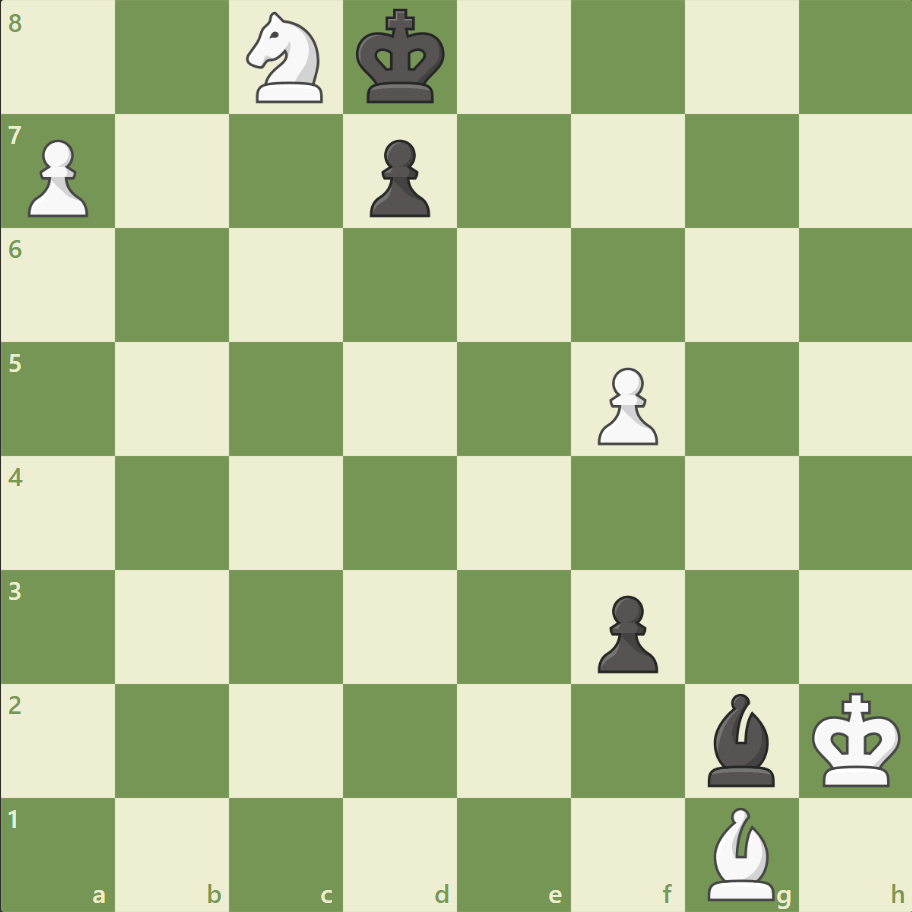B: (698, 801, 782, 904)
K: (806, 685, 906, 793)
N: (238, 7, 335, 110)
P: (20, 132, 95, 223), (588, 359, 662, 450)
b: (698, 687, 782, 790)
k: (351, 4, 451, 112)
p: (361, 132, 435, 223), (588, 586, 662, 677)
